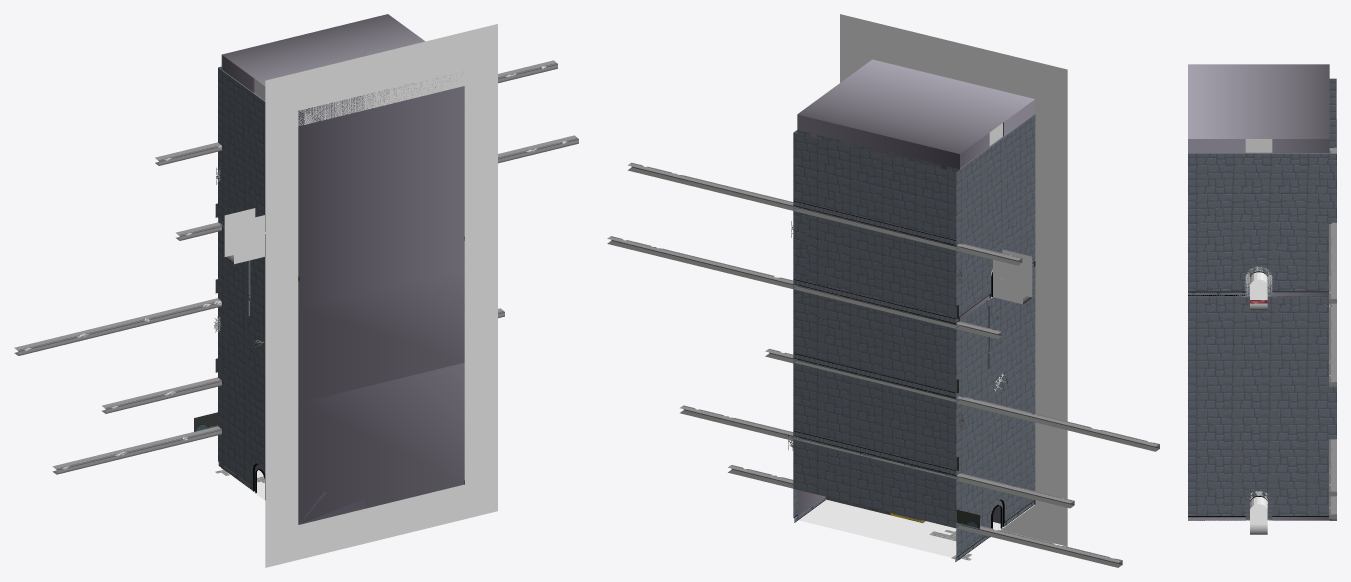
The model's file is gon_08.dae.
The picture shows the model from 3 angles, left to right: view 1: azimuth 30°, elevation 25°; view 2: azimuth 150°, elevation 25°; view 3: azimuth 270°, elevation 25°; orthographic projection. The views are drawn at different scales.
Parts seen in each view (by area): view 1: a_kabeoku02, kuro5, polySurface205_q00079_part0, a_ten_01, polySurface204_q00077_part0, pCube151_q00117_part0, polySurface812_q00003, pCube151_q00115_part0, pCube151_q00118_part0, pCube151_q00116_part0, pCube151_q00119_part0; view 2: kuro5, polySurface205_q00079_part0, a_ten_01, polySurface836_q00031_part0, polySurface836_q00028_part0, polySurface836_q00020_part0, polySurface204_q00077_part0, polySurface836_q00023_part0, polySurface415_q00018, a_kabeoku01, yuka5, pCube151_q00119_part0 (+11 smaller); view 3: polySurface205_q00078_part0, polySurface204_q00076_part0, a_ten_01, a_kabeyoko_012, pCube151_q00119_part0, polySurface204_q00076_part1, pCube151_q00118_part0, a_kabeyoko_013, polySurface204_q00077_part0, polySurface205_q00078_part1, pCube151_q00116_part0, polySurface822_q00073 (+1 smaller).
Boxes of the visible parts, x1=… form: a_kabeoku02: x1=298, y1=75, x2=464, y2=523; kuro5: x1=265, y1=24, x2=497, y2=567; polySurface205_q00079_part0: x1=218, y1=224, x2=265, y2=486; a_ten_01: x1=222, y1=14, x2=425, y2=85; polySurface204_q00077_part0: x1=218, y1=68, x2=265, y2=227; pCube151_q00117_part0: x1=14, y1=298, x2=221, y2=355; polySurface812_q00003: x1=224, y1=208, x2=264, y2=264; pCube151_q00115_part0: x1=52, y1=426, x2=221, y2=474; pCube151_q00118_part0: x1=176, y1=135, x2=578, y2=240; pCube151_q00116_part0: x1=102, y1=308, x2=504, y2=413; pCube151_q00119_part0: x1=155, y1=60, x2=557, y2=165; kuro5: x1=840, y1=14, x2=1067, y2=546; polySurface205_q00079_part0: x1=956, y1=266, x2=1035, y2=556; a_ten_01: x1=797, y1=59, x2=1034, y2=153; polySurface836_q00031_part0: x1=793, y1=362, x2=956, y2=470; polySurface836_q00028_part0: x1=793, y1=132, x2=956, y2=240; polySurface836_q00020_part0: x1=793, y1=289, x2=956, y2=392; polySurface204_q00077_part0: x1=956, y1=115, x2=1035, y2=318; polySurface836_q00023_part0: x1=806, y1=214, x2=956, y2=318; polySurface415_q00018: x1=793, y1=439, x2=956, y2=528; a_kabeoku01: x1=797, y1=114, x2=959, y2=476; yuka5: x1=798, y1=499, x2=1034, y2=557; pCube151_q00119_part0: x1=627, y1=162, x2=1022, y2=265; polySurface205_q00078_part0: x1=1188, y1=296, x2=1336, y2=515; polySurface204_q00076_part0: x1=1188, y1=153, x2=1336, y2=291; a_ten_01: x1=1188, y1=64, x2=1329, y2=138; a_kabeyoko_012: x1=1188, y1=139, x2=1329, y2=295; pCube151_q00119_part0: x1=1329, y1=119, x2=1336, y2=303; polySurface204_q00076_part1: x1=1188, y1=266, x2=1328, y2=295; pCube151_q00118_part0: x1=1329, y1=303, x2=1336, y2=386; a_kabeyoko_013: x1=1188, y1=296, x2=1329, y2=520; polySurface204_q00077_part0: x1=1329, y1=78, x2=1336, y2=147; polySurface205_q00078_part1: x1=1188, y1=492, x2=1336, y2=520; pCube151_q00116_part0: x1=1329, y1=439, x2=1336, y2=496; polySurface822_q00073: x1=1250, y1=504, x2=1267, y2=524.
Bounding box in the file's own units: 168 × 140 × 42.
